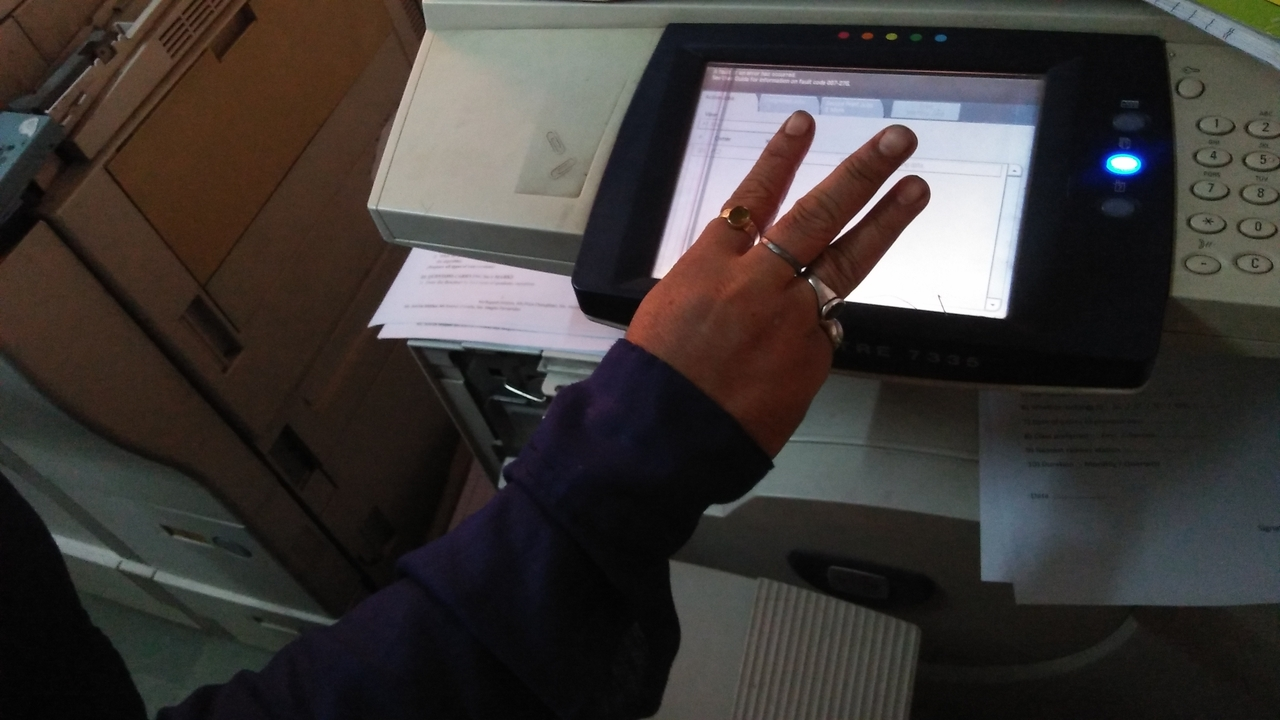fingertip: (856, 110, 926, 168), (768, 94, 828, 142), (884, 172, 940, 223)
